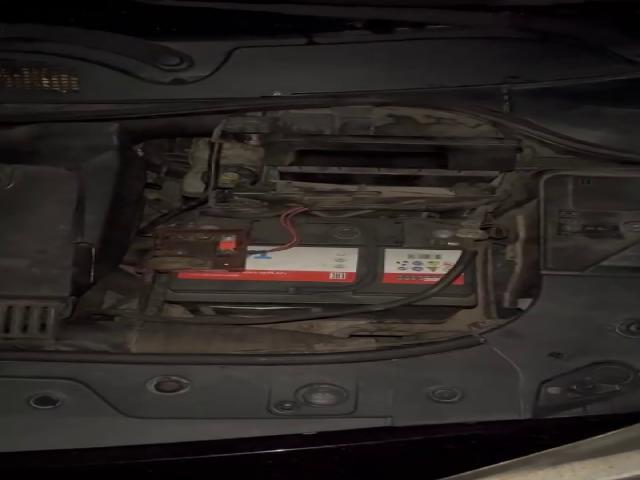accumulator: (138, 209, 493, 323)
fuse_box: (545, 175, 640, 274)
